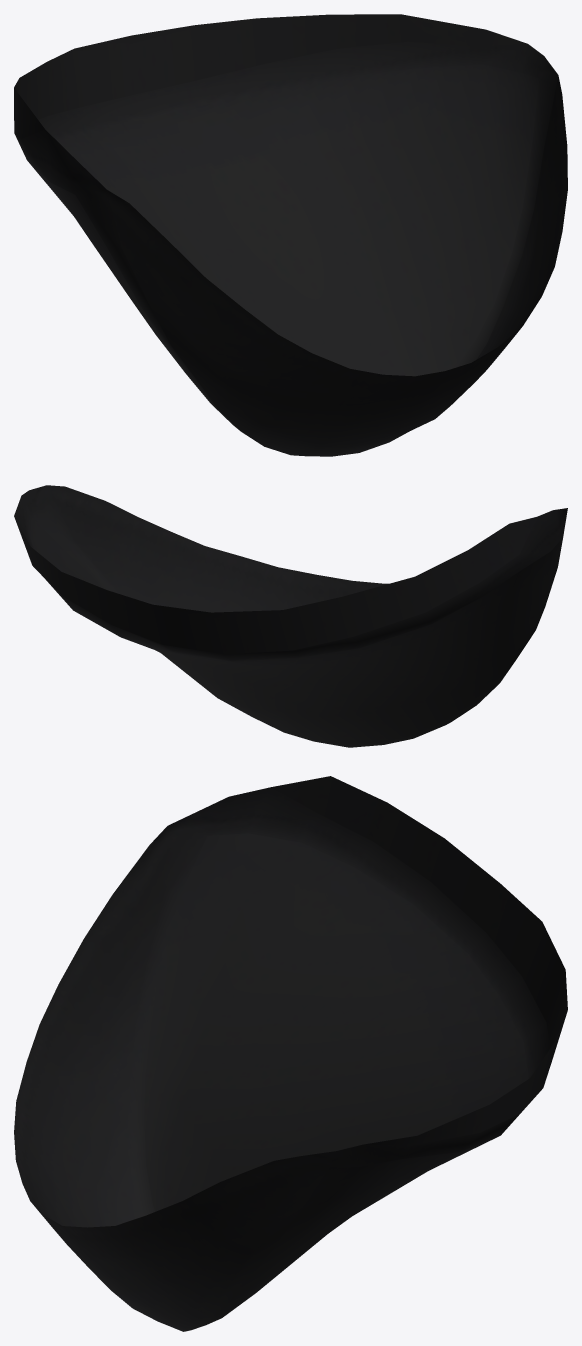
Rendered from trigger.obj.
3 views of the same model, one above another, from view 1: azimuth 30°, elevation 25°; view 2: azimuth 150°, elevation 25°; view 3: azimuth 270°, elevation 25° (orthographic). The views are drawn at different scales.
Visible parts, largest first — view 1: r_trigger_5; view 2: r_trigger_5; view 3: r_trigger_5.
Part boxes in pixels (bbox=[...]): r_trigger_5: bbox=[14, 14, 567, 456]; r_trigger_5: bbox=[14, 485, 567, 747]; r_trigger_5: bbox=[14, 776, 567, 1331].
Size of the model in its own units: 0.0358 by 0.0231 by 0.0297.
1 material, 1 textured.
